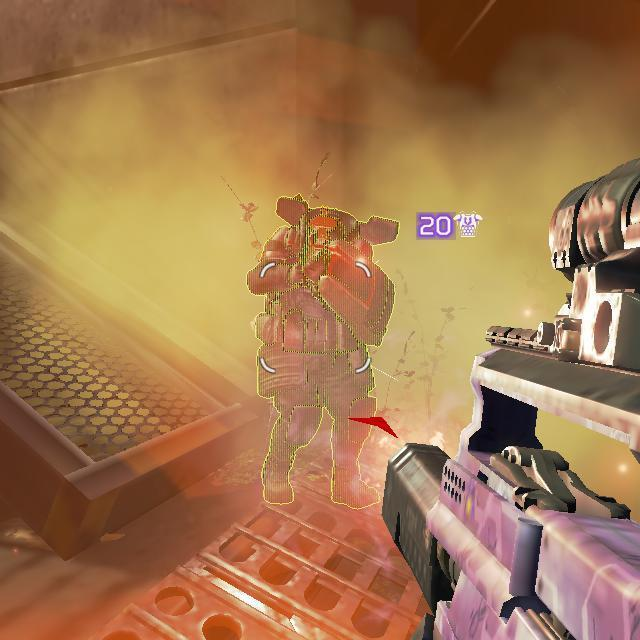avatar: (241, 193, 399, 509)
